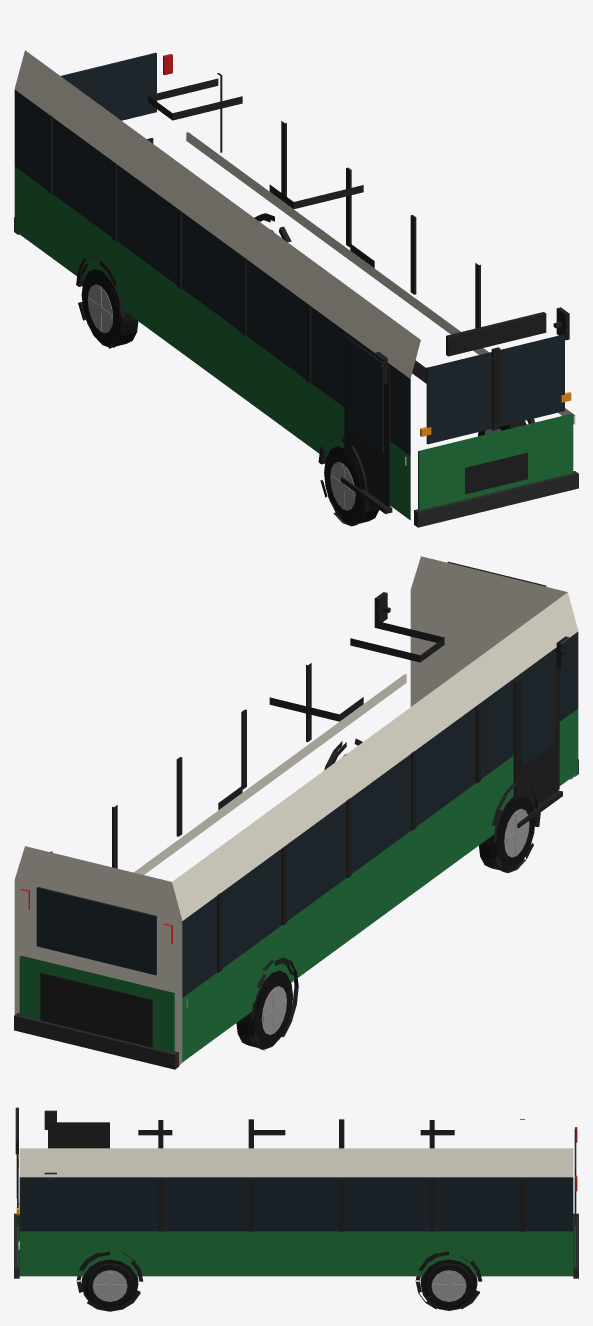
File: bus.glb
3 renders of one model, top to bottom at view 1: azimuth 30°, elevation 25°; view 2: azimuth 150°, elevation 25°; view 3: azimuth 270°, elevation 25°, orthographic. The views are drawn at different scales.
Parts seen in each view (by area): view 1: body, wheel_rr, wheel_fr; view 2: body, wheel_rr, wheel_fr; view 3: body, wheel_rl, wheel_fl.
Boxes of the visible parts, box(x1,y1,x2,y2) form: body: box(14, 50, 578, 527); wheel_rr: box(81, 268, 138, 347); wheel_fr: box(324, 446, 378, 524); body: box(14, 556, 578, 1069); wheel_rr: box(236, 970, 292, 1049); wheel_fr: box(479, 796, 535, 871); body: box(14, 1107, 578, 1311); wheel_rl: box(420, 1259, 477, 1310); wheel_fl: box(81, 1259, 138, 1310).
Bounding box in the file's own units: 2.66 × 3.2 × 10.
